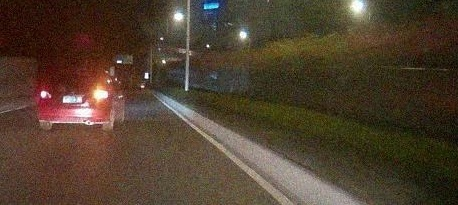L_light: (40, 91, 52, 99)
R_light: (92, 90, 108, 99)
T_light: (68, 76, 81, 79)
night-right: (38, 70, 109, 131)
